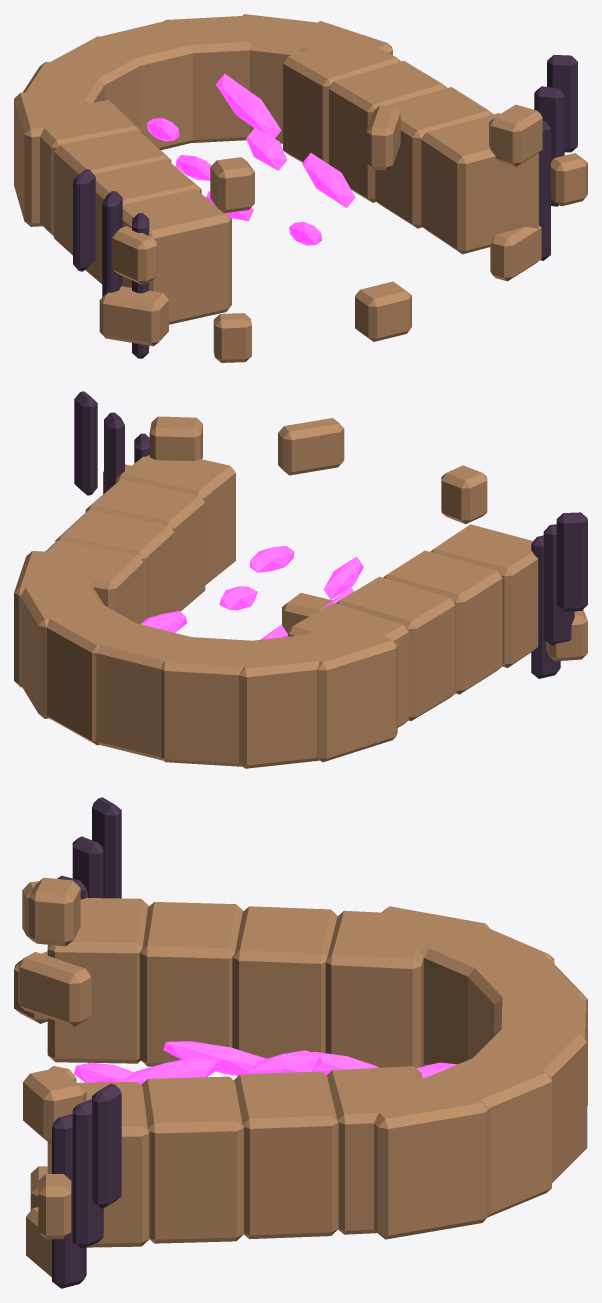
The model's file is rift_scar_arch_v1.glb.
The picture shows the model from 3 angles, top to bottom: view 1: azimuth 30°, elevation 25°; view 2: azimuth 150°, elevation 25°; view 3: azimuth 270°, elevation 25°; orthographic projection. The views are drawn at different scales.
Parts seen in each view (by area): view 1: Arch_Pillar_-1_0, Thorn_-1_0, RiftShard_0; view 2: Arch_Pillar_-1_0, Thorn_-1_0, RiftShard_0; view 3: Arch_Pillar_-1_0, Thorn_-1_0, RiftShard_0.
Boxes of the visible parts, <box> form: Arch_Pillar_-1_0: <box>14,14,587,362</box>; Thorn_-1_0: <box>73,55,577,358</box>; RiftShard_0: <box>147,73,355,245</box>; Arch_Pillar_-1_0: <box>14,416,587,768</box>; Thorn_-1_0: <box>74,391,587,678</box>; RiftShard_0: <box>140,546,363,639</box>; Arch_Pillar_-1_0: <box>14,877,587,1277</box>; Thorn_-1_0: <box>52,797,121,1288</box>; RiftShard_0: <box>74,1041,457,1084</box>.
Bounding box in the file's own units: 6.84 × 2.83 × 5.53.
